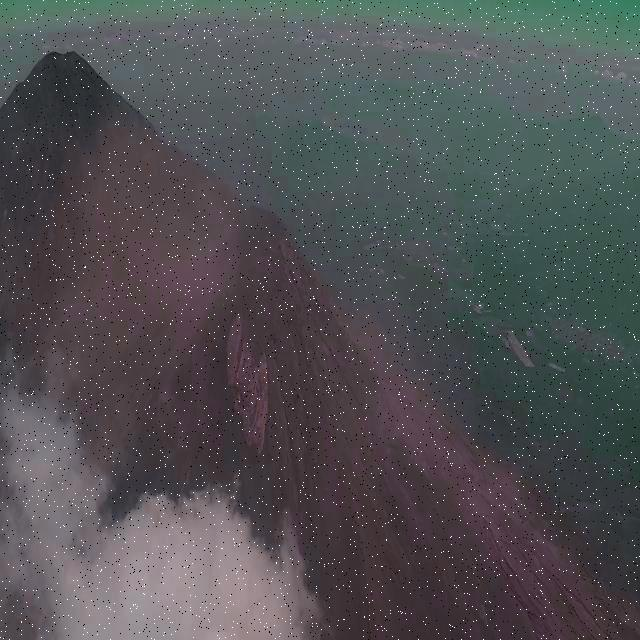Summit: (132, 203, 384, 458)
